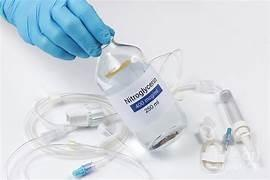Glove: (0, 0, 113, 59)
Iv_Bottle: (96, 40, 186, 149)
